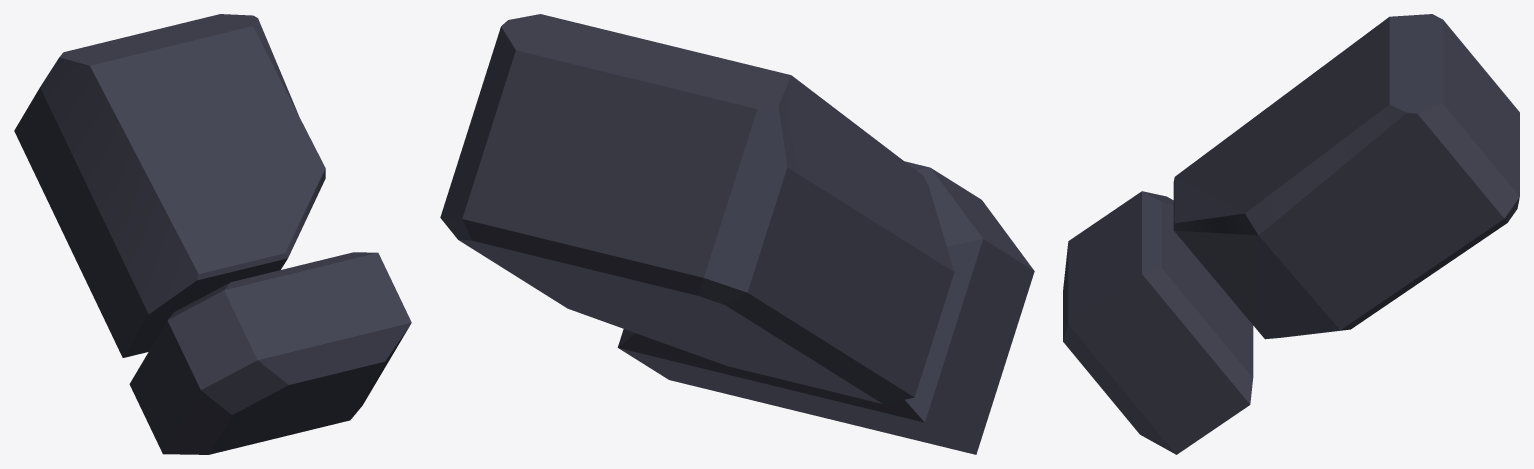
File: Edge_Stairs_Tini_01.fbx
3 views of the same model, side by side, from view 1: azimuth 30°, elevation 25°; view 2: azimuth 150°, elevation 25°; view 3: azimuth 270°, elevation 25° (orthographic). The views are drawn at different scales.
Visible parts, largest first — view 1: 1-Stairs_Tini_Edge_01; view 2: 1-Stairs_Tini_Edge_01; view 3: 1-Stairs_Tini_Edge_01.
Boxes of the visible parts, <box> form: 1-Stairs_Tini_Edge_01: <box>14,14,411,454</box>; 1-Stairs_Tini_Edge_01: <box>440,14,1034,454</box>; 1-Stairs_Tini_Edge_01: <box>1063,14,1519,454</box>.
Size of the model in its own units: 0.6843 by 1.23 by 1.02.
